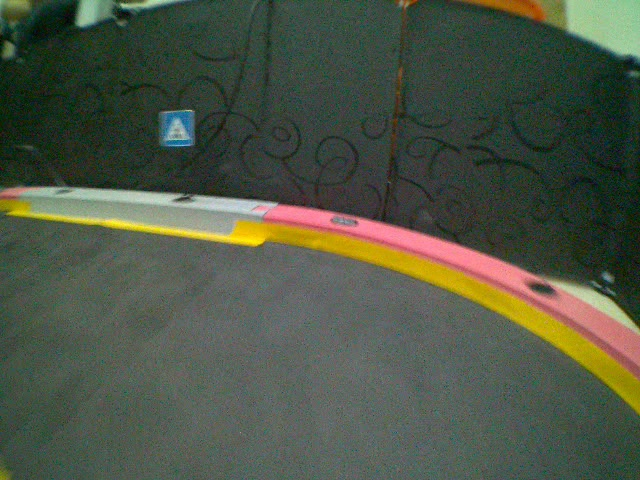crossing: (158, 108, 196, 149)
